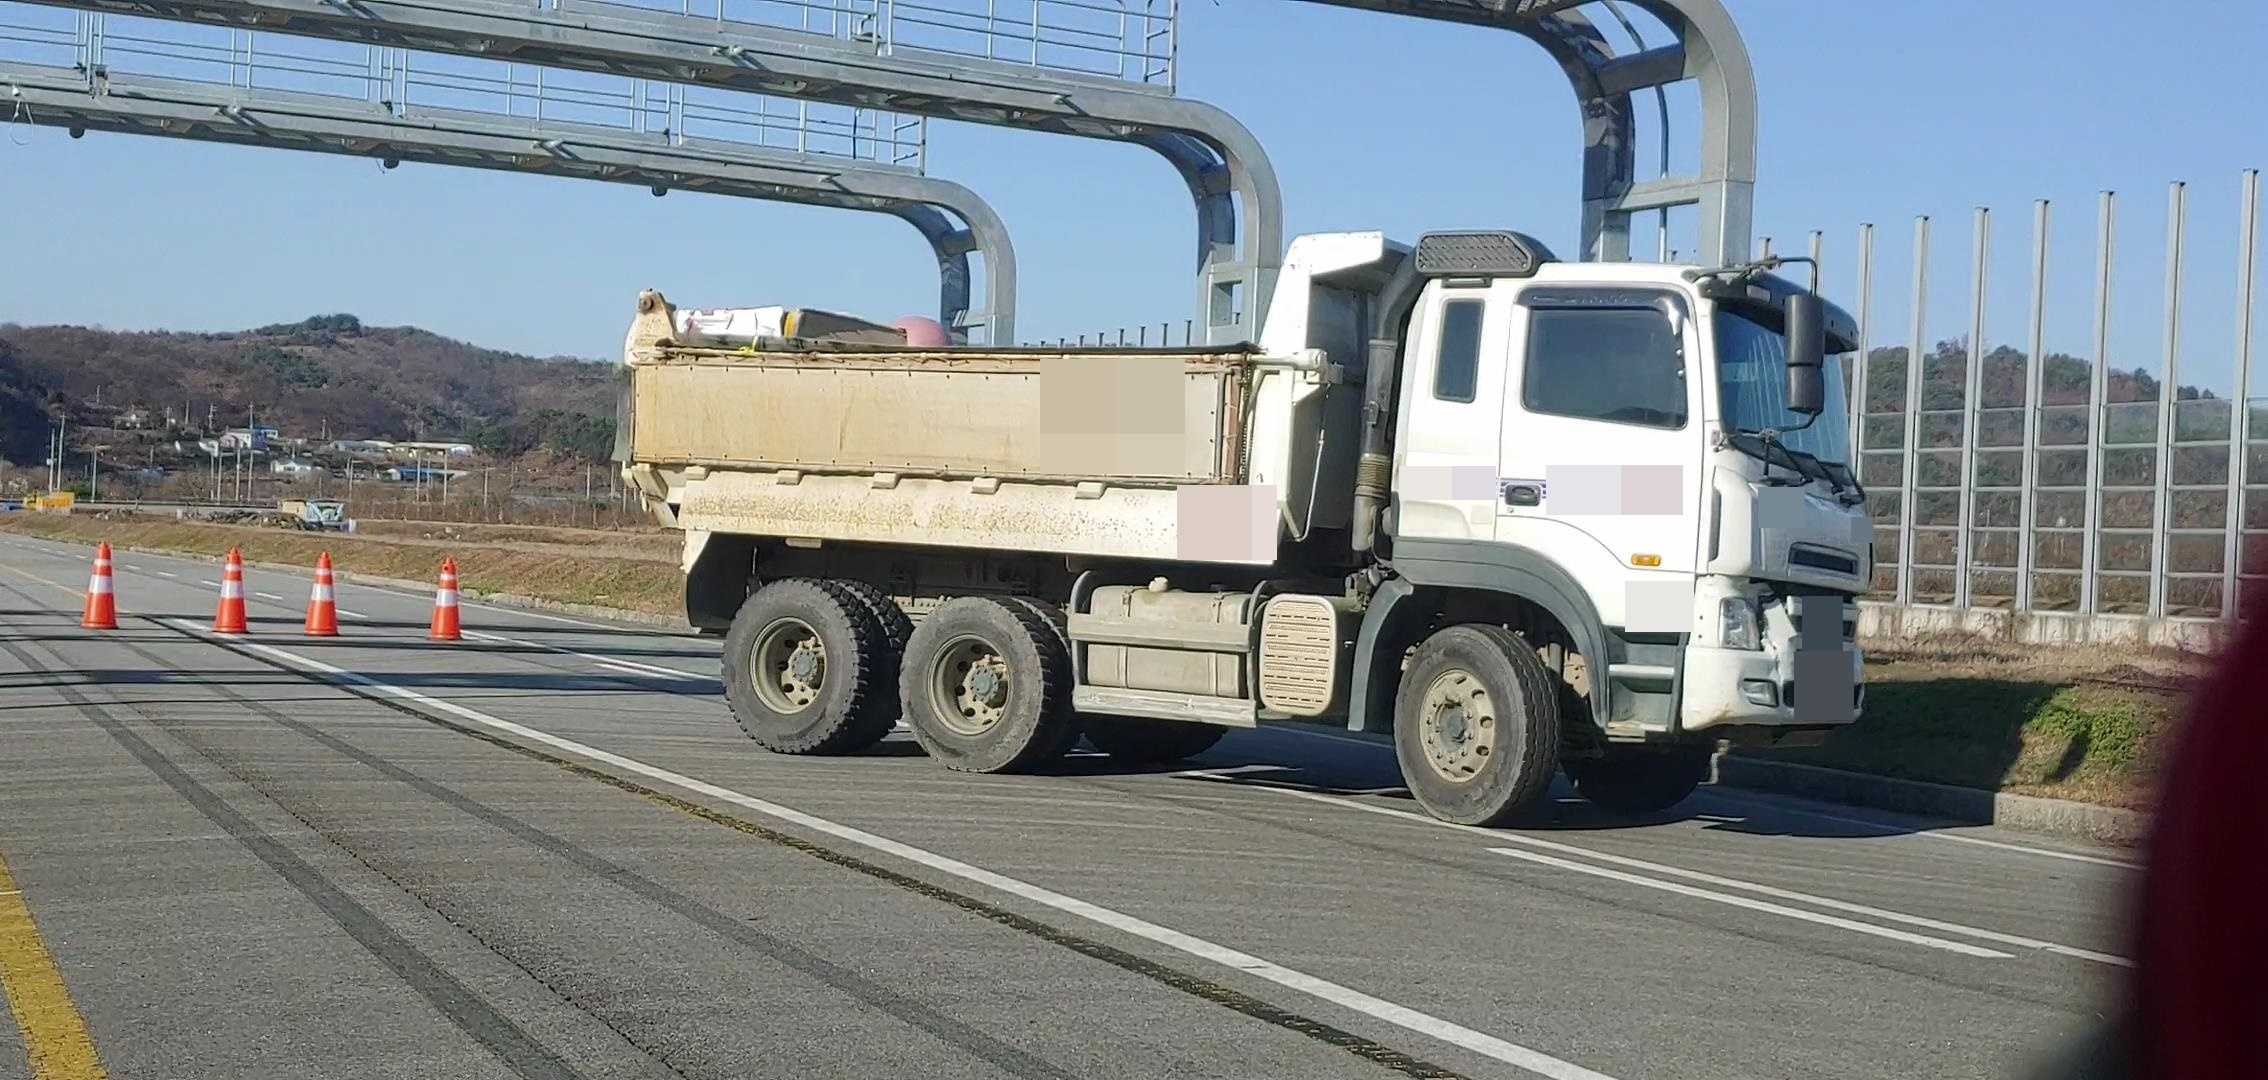불법차량: (607, 231, 1876, 824)
